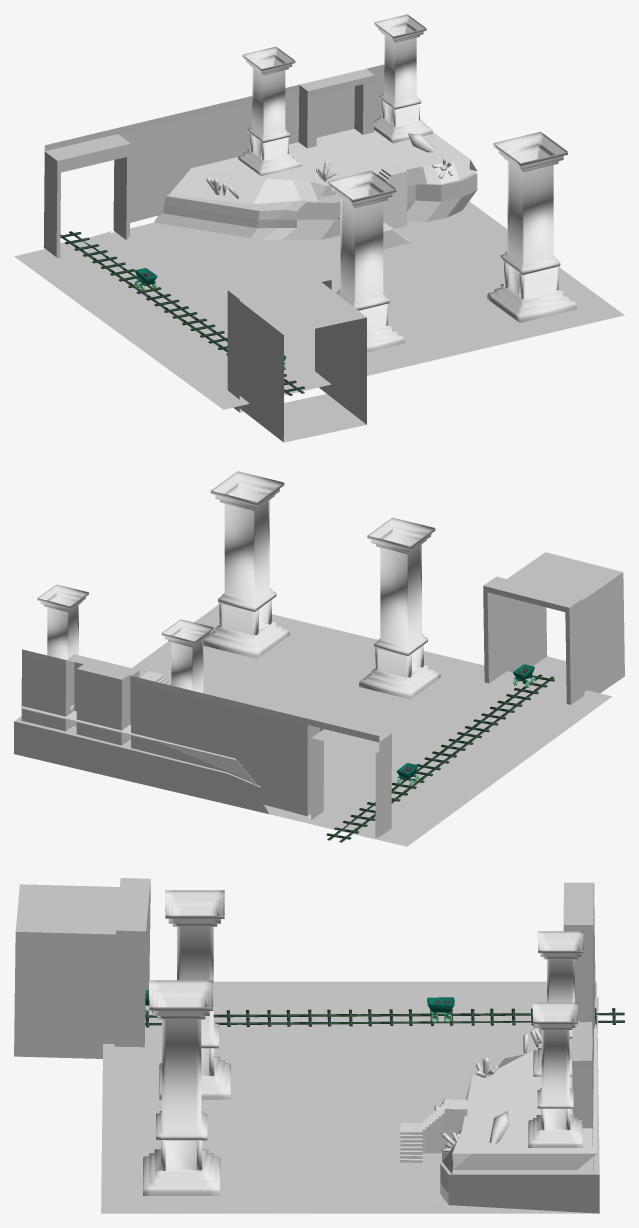
The model's file is Caverna no blender.fbx.
3 views of the same model, one above another, from view 1: azimuth 30°, elevation 25°; view 2: azimuth 150°, elevation 25°; view 3: azimuth 270°, elevation 25° (orthographic). The views are drawn at different scales.
Visible parts, largest first — view 1: Cube; view 2: Cube; view 3: Cube.
Part boxes in pixels (x1,y1,x2,y2): Cube: [14, 14, 624, 442]; Cube: [14, 471, 624, 846]; Cube: [14, 878, 624, 1213].
Size of the model in its own units: 5425 by 2183 by 6075.
